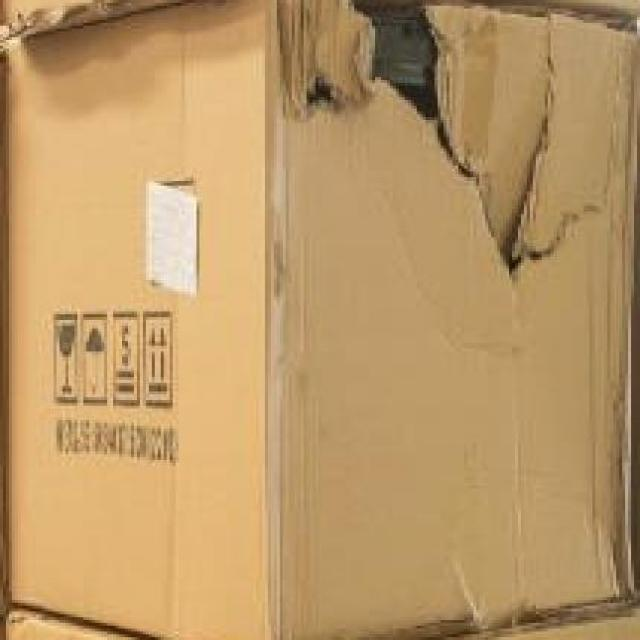damaged: (298, 6, 586, 274)
